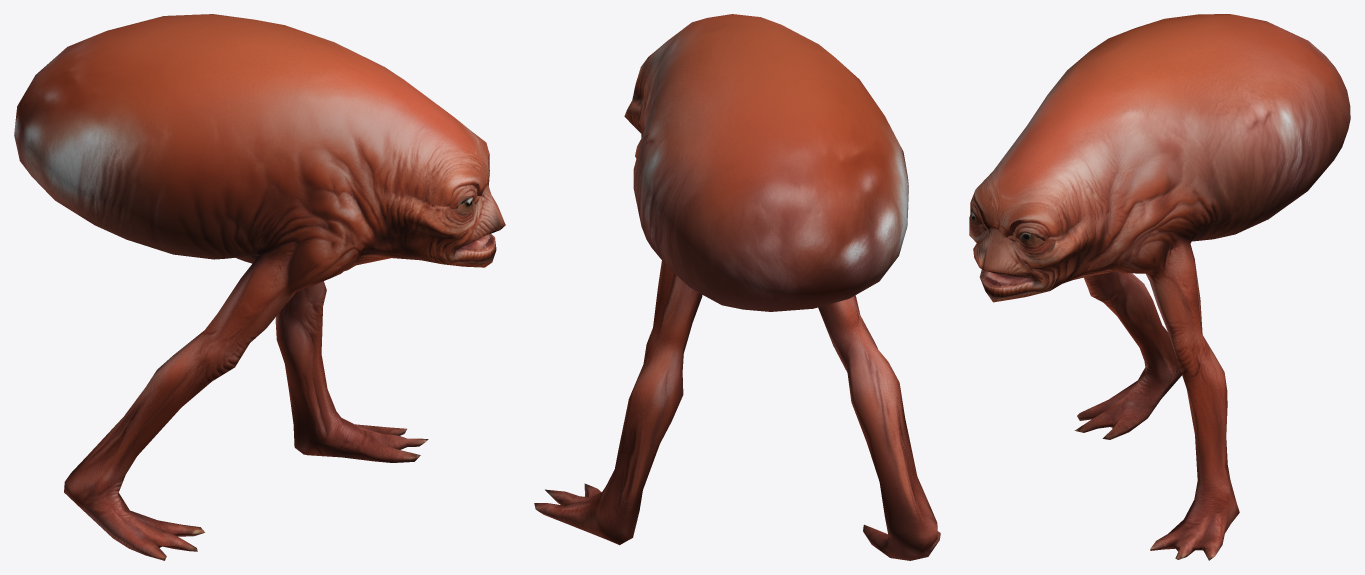
The model's file is strider_single_1500.glb.
3 views of the same model, side by side, from view 1: azimuth 30°, elevation 25°; view 2: azimuth 150°, elevation 25°; view 3: azimuth 270°, elevation 25° (orthographic). The views are drawn at different scales.
Bounding box in the file's own units: 0.7041 × 0.8689 × 0.6776.
Materials: 1 (1 with a texture image).
